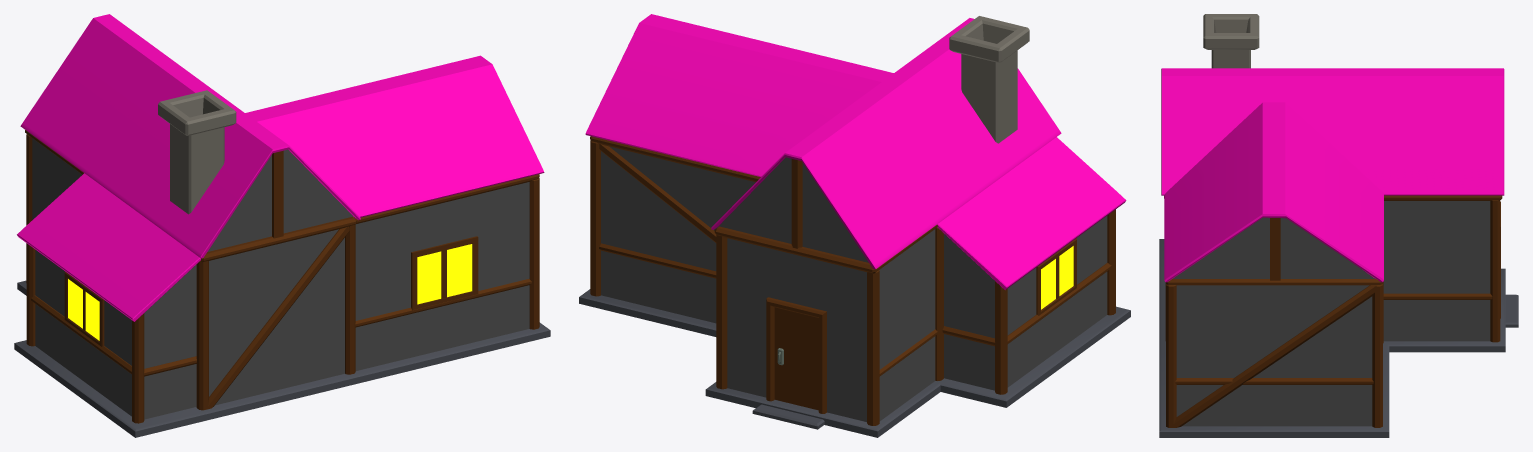
The model's file is CasaCruzada_Vila.fbx.
The picture shows the model from 3 angles, left to right: view 1: azimuth 30°, elevation 25°; view 2: azimuth 150°, elevation 25°; view 3: azimuth 270°, elevation 25°; orthographic projection. The views are drawn at different scales.
Parts seen in each view (by area): view 1: Telhado_CasaCruzada, Paredes_CasaCruzada, EstruturaMadeira_CasaCruzada, BasePedra_CasaCruzada, Chamine_CasaCruzada, VidroJanela_CasaCruzada, JanelasEPorta_CasaCruzada; view 2: Telhado_CasaCruzada, Paredes_CasaCruzada, EstruturaMadeira_CasaCruzada, BasePedra_CasaCruzada, JanelasEPorta_CasaCruzada, Chamine_CasaCruzada, VidroJanela_CasaCruzada; view 3: Telhado_CasaCruzada, Paredes_CasaCruzada, EstruturaMadeira_CasaCruzada, BasePedra_CasaCruzada, Chamine_CasaCruzada.
Boxes of the visible parts, x1,y1,x2,y2 form: Telhado_CasaCruzada: [17, 14, 544, 321]; Paredes_CasaCruzada: [32, 138, 529, 419]; EstruturaMadeira_CasaCruzada: [25, 130, 539, 423]; BasePedra_CasaCruzada: [14, 280, 550, 437]; Chamine_CasaCruzada: [158, 90, 236, 214]; VidroJanela_CasaCruzada: [68, 244, 472, 340]; JanelasEPorta_CasaCruzada: [64, 236, 478, 346]; Telhado_CasaCruzada: [585, 14, 1126, 289]; Paredes_CasaCruzada: [601, 146, 1107, 421]; EstruturaMadeira_CasaCruzada: [590, 136, 1115, 425]; BasePedra_CasaCruzada: [579, 289, 1130, 437]; JanelasEPorta_CasaCruzada: [766, 238, 1076, 413]; Chamine_CasaCruzada: [949, 16, 1029, 143]; VidroJanela_CasaCruzada: [1041, 246, 1073, 309]; Telhado_CasaCruzada: [1161, 68, 1504, 282]; Paredes_CasaCruzada: [1173, 201, 1490, 426]; EstruturaMadeira_CasaCruzada: [1164, 195, 1502, 427]; BasePedra_CasaCruzada: [1159, 239, 1518, 437]; Chamine_CasaCruzada: [1203, 14, 1259, 68].
Size of the model in its own units: 934 by 602 by 735.
